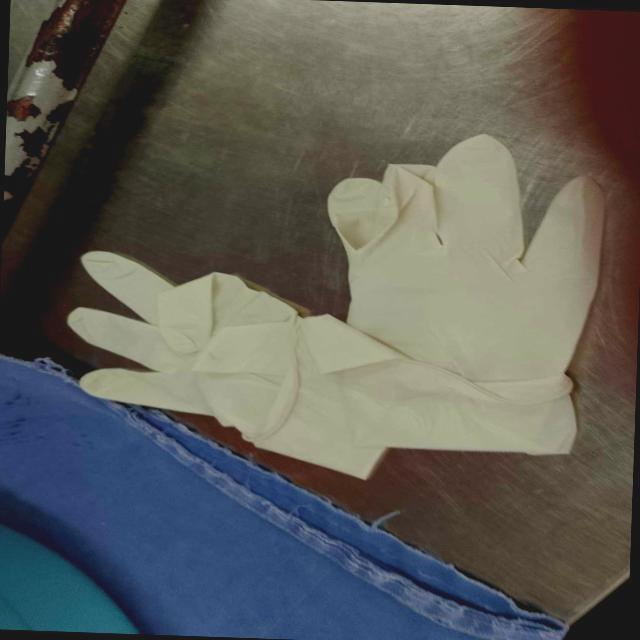General: (4, 2, 637, 636), (3, 352, 571, 637)
Infectious: (67, 131, 608, 480), (327, 132, 607, 385), (67, 249, 302, 440)
